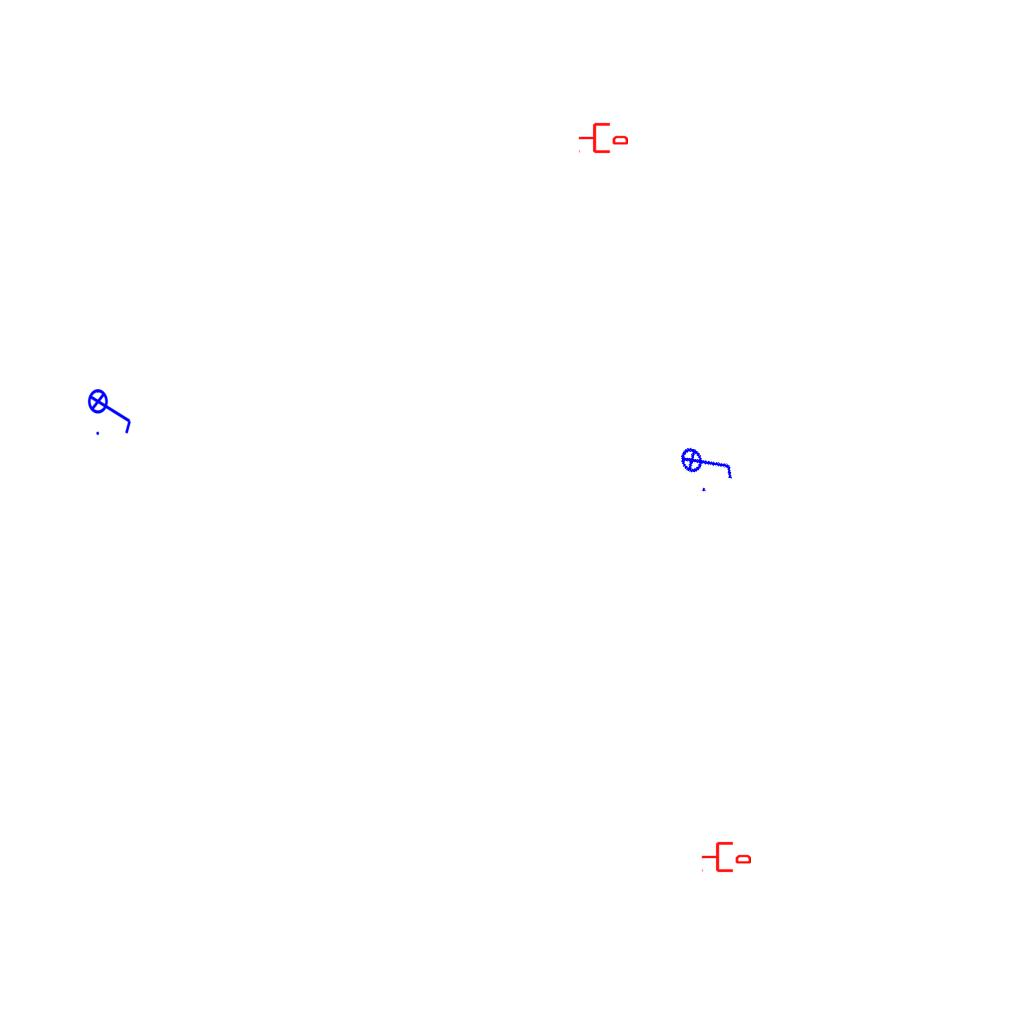Ausschalter_beleuchtet: (673, 427, 741, 499), (87, 382, 135, 438)
Datenanschluss_einfach: (701, 840, 751, 874), (578, 121, 628, 155)
